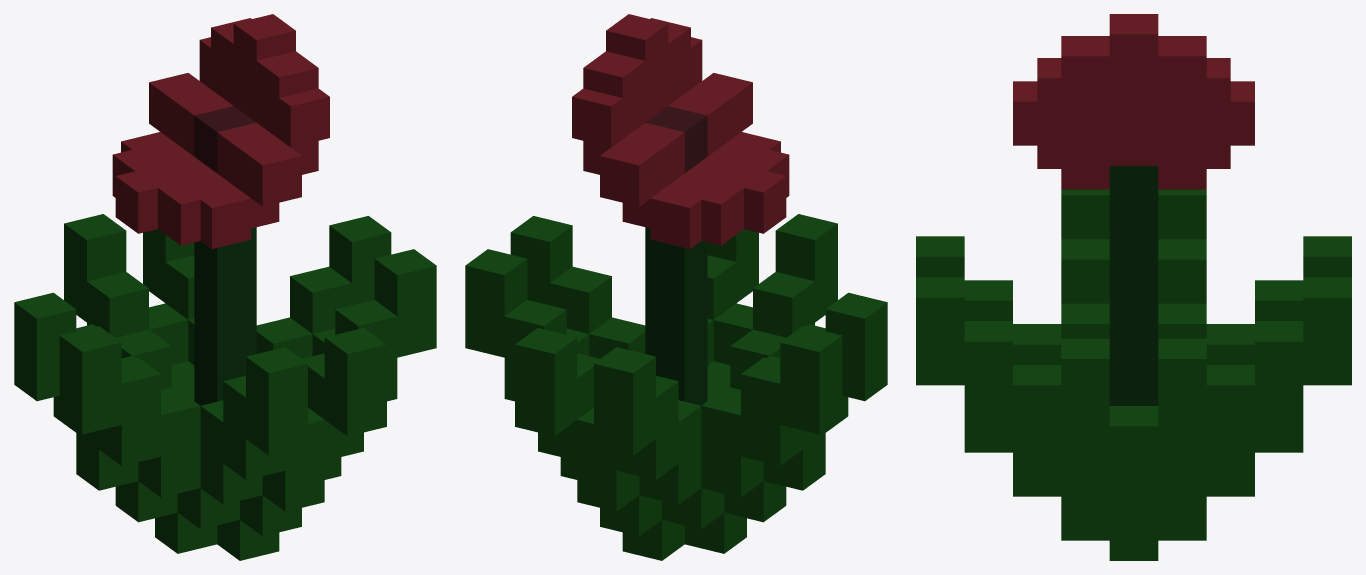
Rendered from Flower.fbx.
3 renders of one model, left to right at view 1: azimuth 30°, elevation 25°; view 2: azimuth 150°, elevation 25°; view 3: azimuth 270°, elevation 25°, orthographic. The views are drawn at different scales.
Visible parts, largest first — view 1: Cube; view 2: Cube; view 3: Cube.
Part boxes in pixels (x1=…): Cube: x1=14, y1=14, x2=436, y2=560; Cube: x1=465, y1=14, x2=887, y2=560; Cube: x1=916, y1=14, x2=1351, y2=560.
Bounding box in the file's own units: 450 × 600 × 450.
